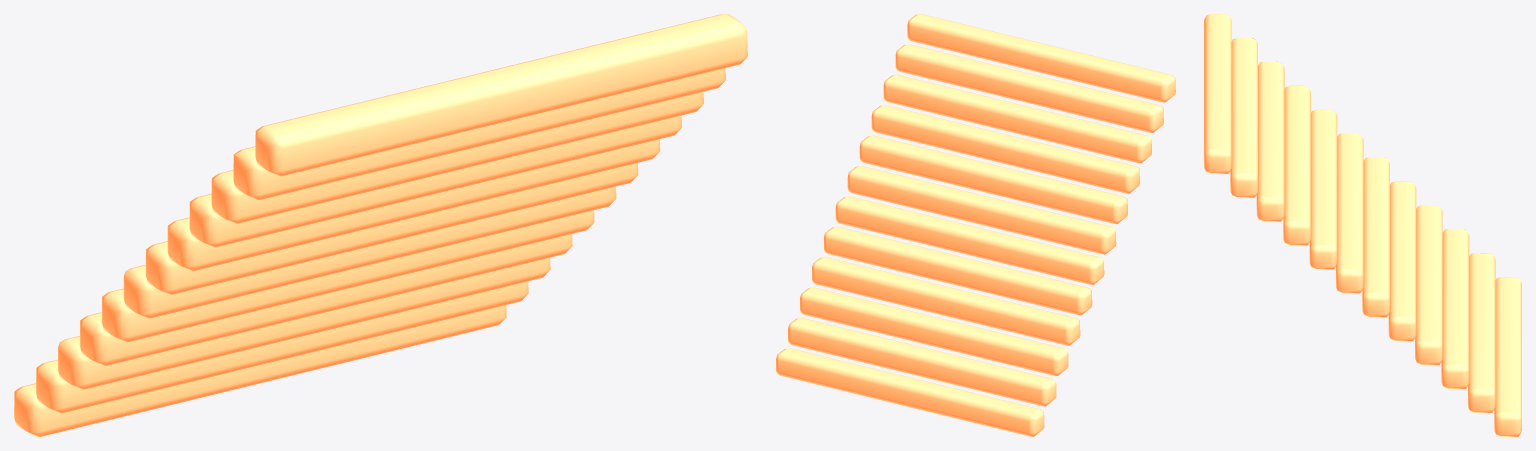
File: SM_Stairs01.fbx
3 renders of one model, left to right at view 1: azimuth 30°, elevation 25°; view 2: azimuth 150°, elevation 25°; view 3: azimuth 270°, elevation 25°, orthographic. The views are drawn at different scales.
Visible parts, largest first — view 1: SM_Stairs01_LOD0; view 2: SM_Stairs01_LOD0; view 3: SM_Stairs01_LOD0.
Boxes of the visible parts, x1,y1,x2,y2 form: SM_Stairs01_LOD0: [14, 14, 747, 436]; SM_Stairs01_LOD0: [776, 14, 1175, 436]; SM_Stairs01_LOD0: [1204, 14, 1521, 436].
Size of the model in its own units: 316 by 301 by 301.
